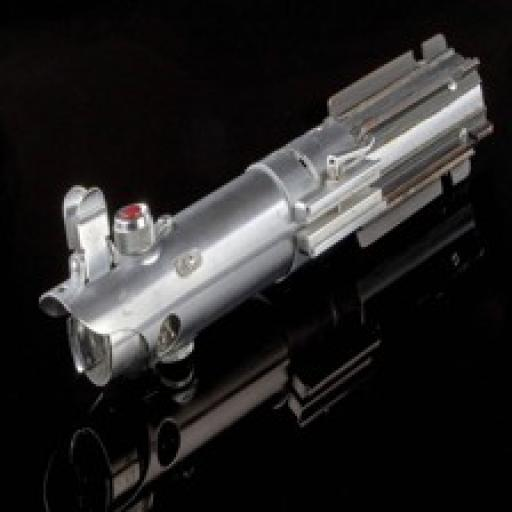lightsaber: (35, 32, 494, 404)
